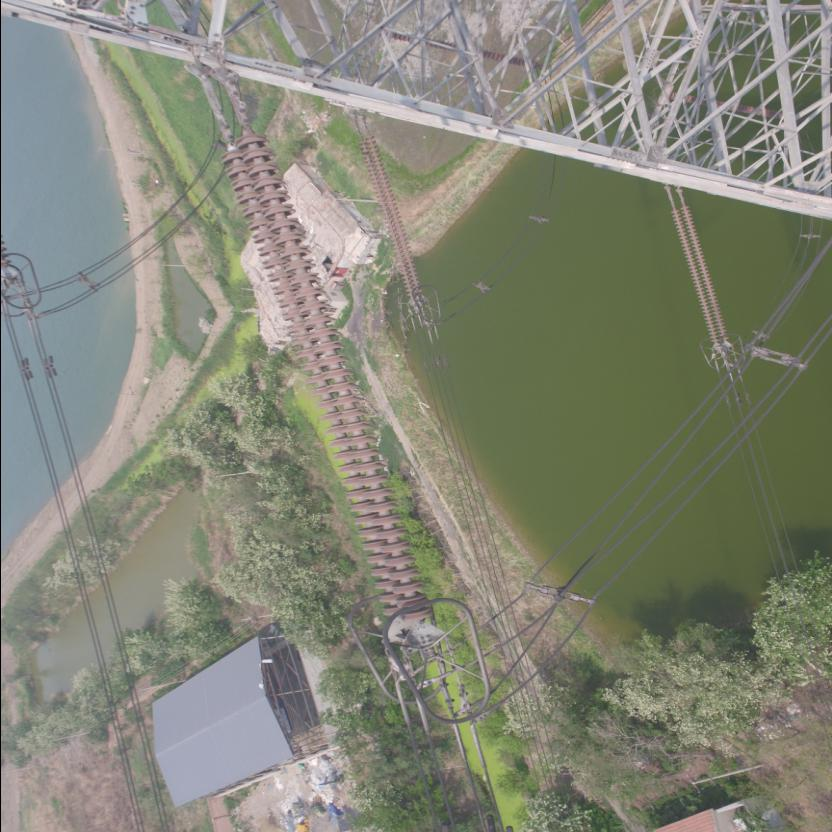insulator: (209, 128, 435, 636), (354, 125, 424, 303), (664, 197, 728, 350)
